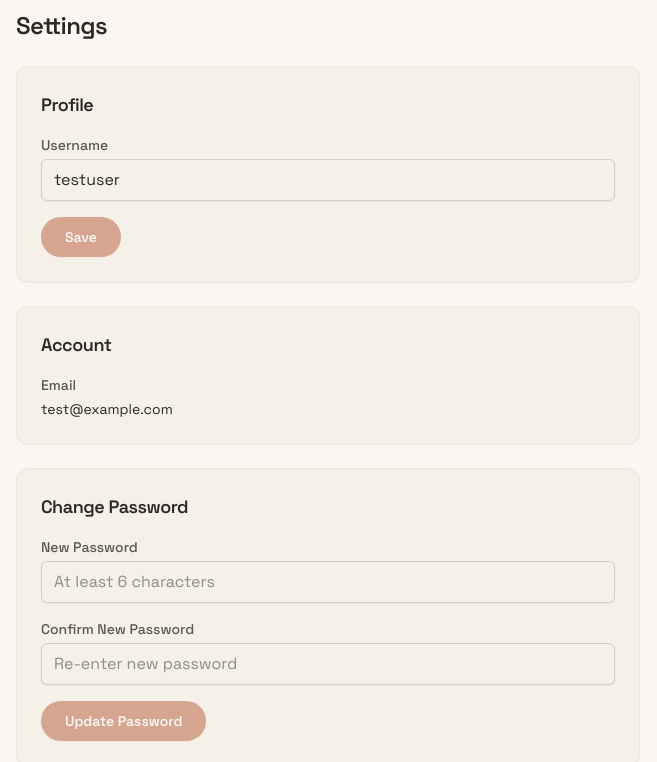
Scenario: SettingsPage › shows error when password is too short
Type "abc" into the password field labelled "New Password" at (328, 582), box [41,561,615,603]
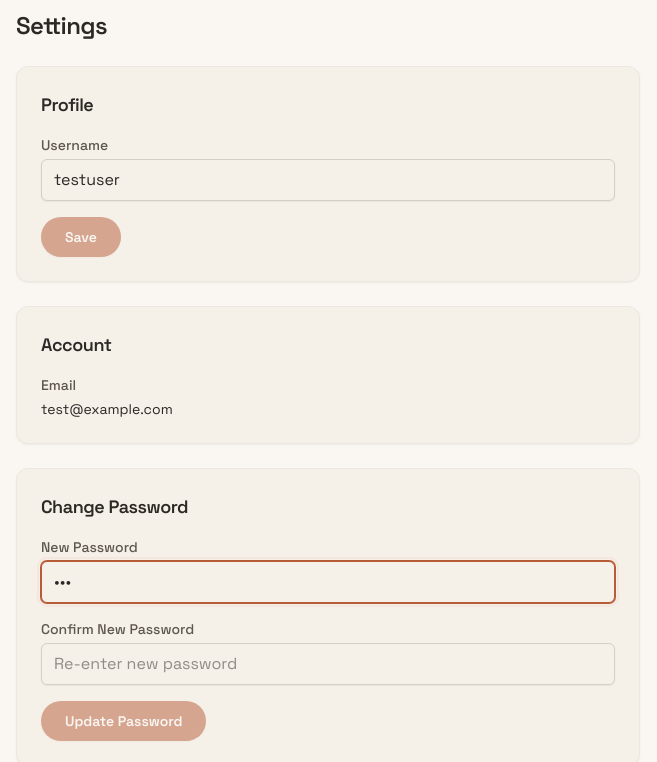
Type "abc" into the password field labelled "Confirm New Password" at (328, 664), box [41,643,615,685]
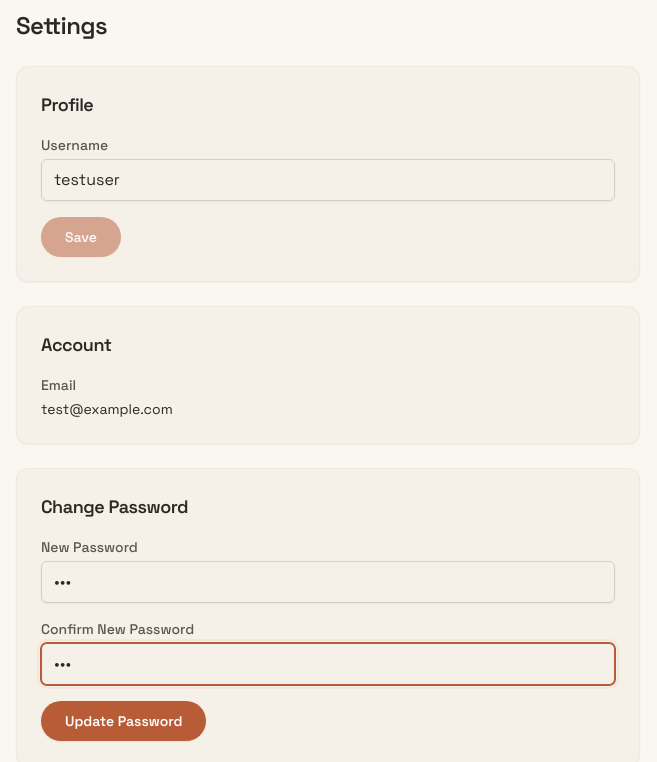
Click the button "Update Password" at (124, 721), box [41,701,206,741]
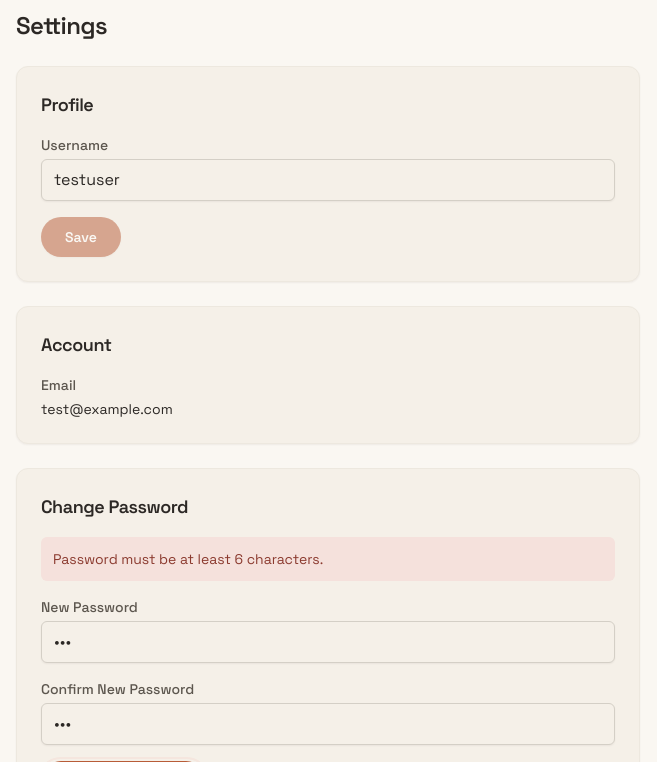
Result: the text "Password must be at least 6 characters." is shown at [41,537,615,581]
